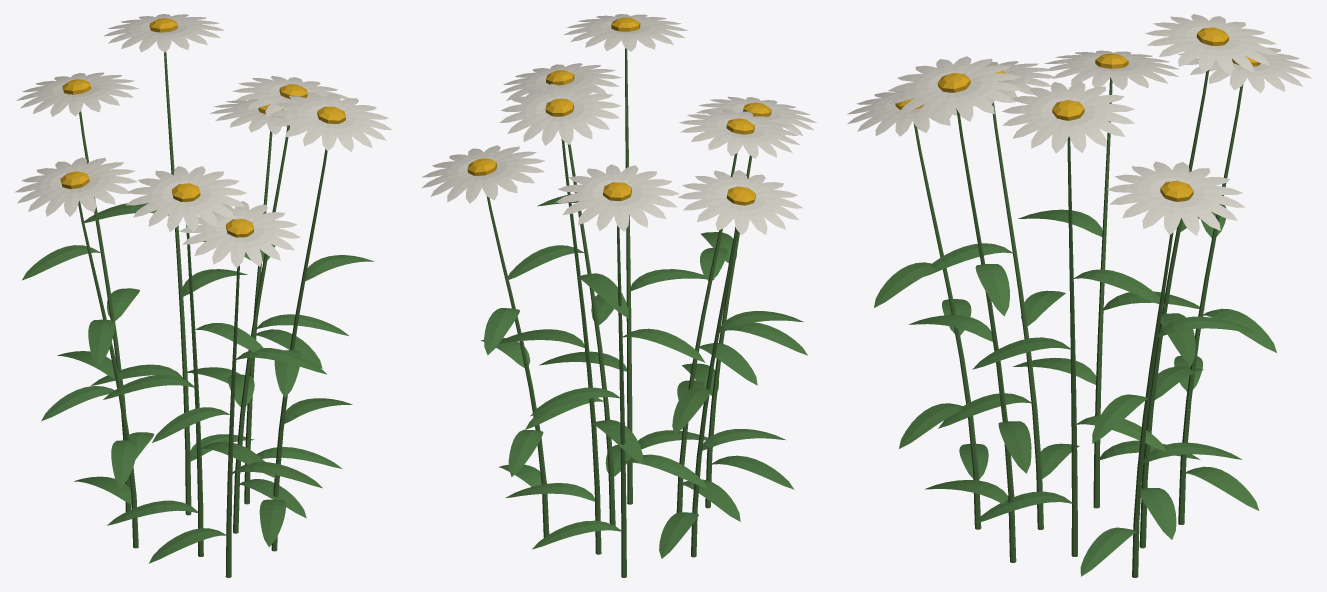
The model's file is l-daisy.glb.
3 views of the same model, side by side, from view 1: azimuth 30°, elevation 25°; view 2: azimuth 150°, elevation 25°; view 3: azimuth 270°, elevation 25° (orthographic). The views are drawn at different scales.
Parts seen in each view (by area): view 1: Blossoms, HerbLeaves, HerbStems; view 2: Blossoms, HerbLeaves, HerbStems; view 3: Blossoms, HerbLeaves, HerbStems.
Boxes of the visible parts, x1,y1,x2,y2 form: Blossoms: [15, 14, 391, 268]; HerbLeaves: [22, 203, 374, 563]; HerbStems: [78, 51, 327, 577]; Blossoms: [422, 14, 816, 235]; HerbLeaves: [481, 194, 807, 558]; HerbStems: [486, 48, 752, 577]; Blossoms: [847, 14, 1311, 235]; HerbLeaves: [874, 204, 1276, 576]; HerbStems: [913, 70, 1243, 577].
Bounding box in the file's own units: 0.2248 × 0.3028 × 0.2458.
